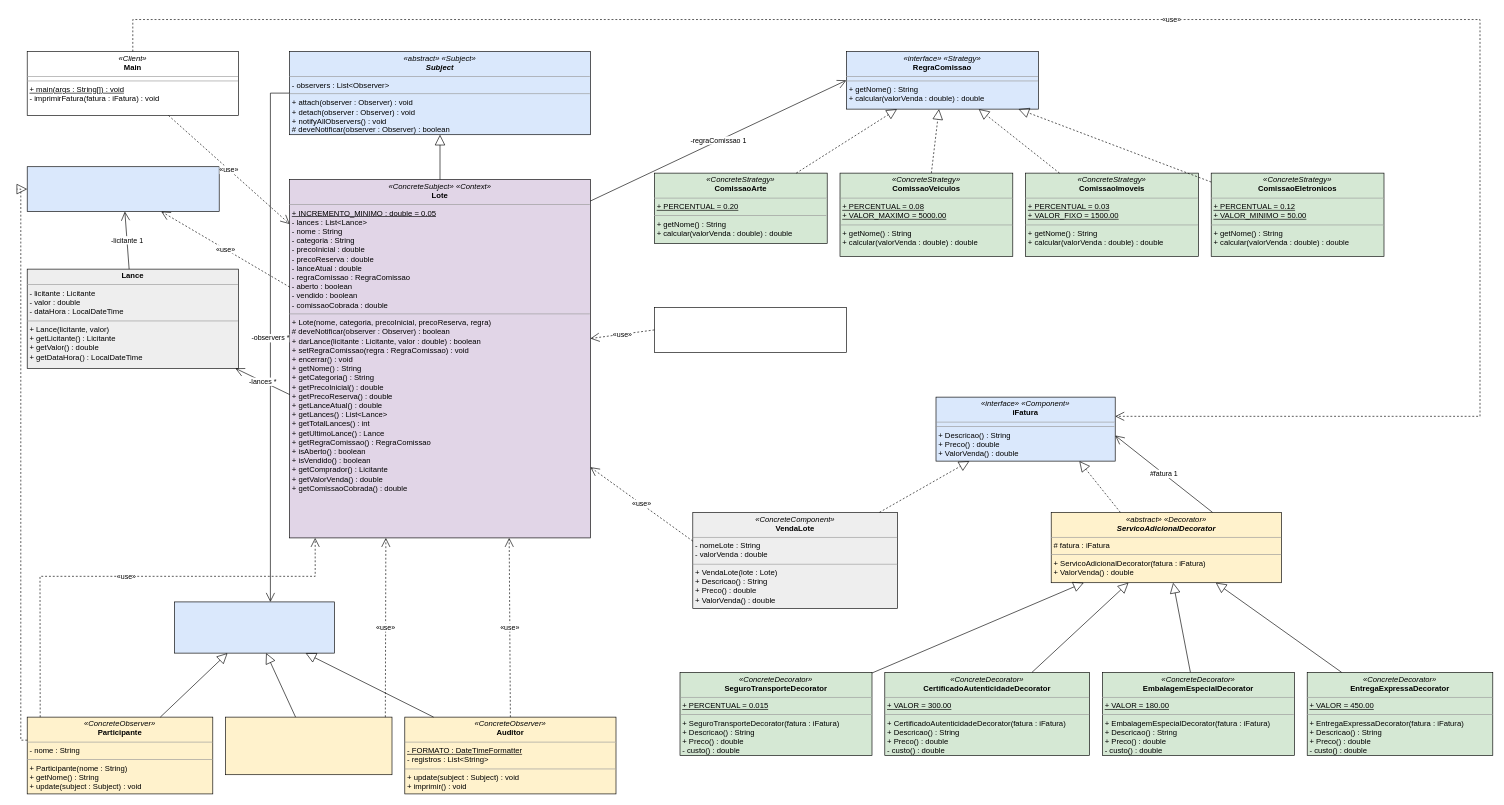
This 1504x805 diagram has some shape labels left out. Here are the shapes that lost their labels. From the top down, the box of each, then its label:
(27, 166, 219, 212): «interface» Licitante + getNome() : String
(654, 307, 846, 352): AcertoVendedor + imprimir(lote : Lote) : void
(174, 601, 334, 653): «abstract» «Observer» Observer + update(subject : Subject) : void
(225, 716, 392, 775): «ConcreteObserver» PainelLeiloeiro + update(subject : Subject) : void
